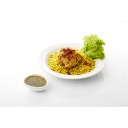briyani: (50, 48, 89, 74)
